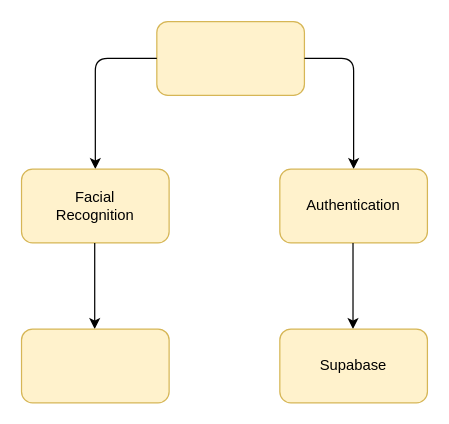
This 449x424 diagram has some shape labels left out. Each missing label, with the centre of its shape:
Frontend: point (230, 57)
Mongo DB: point (94, 365)
